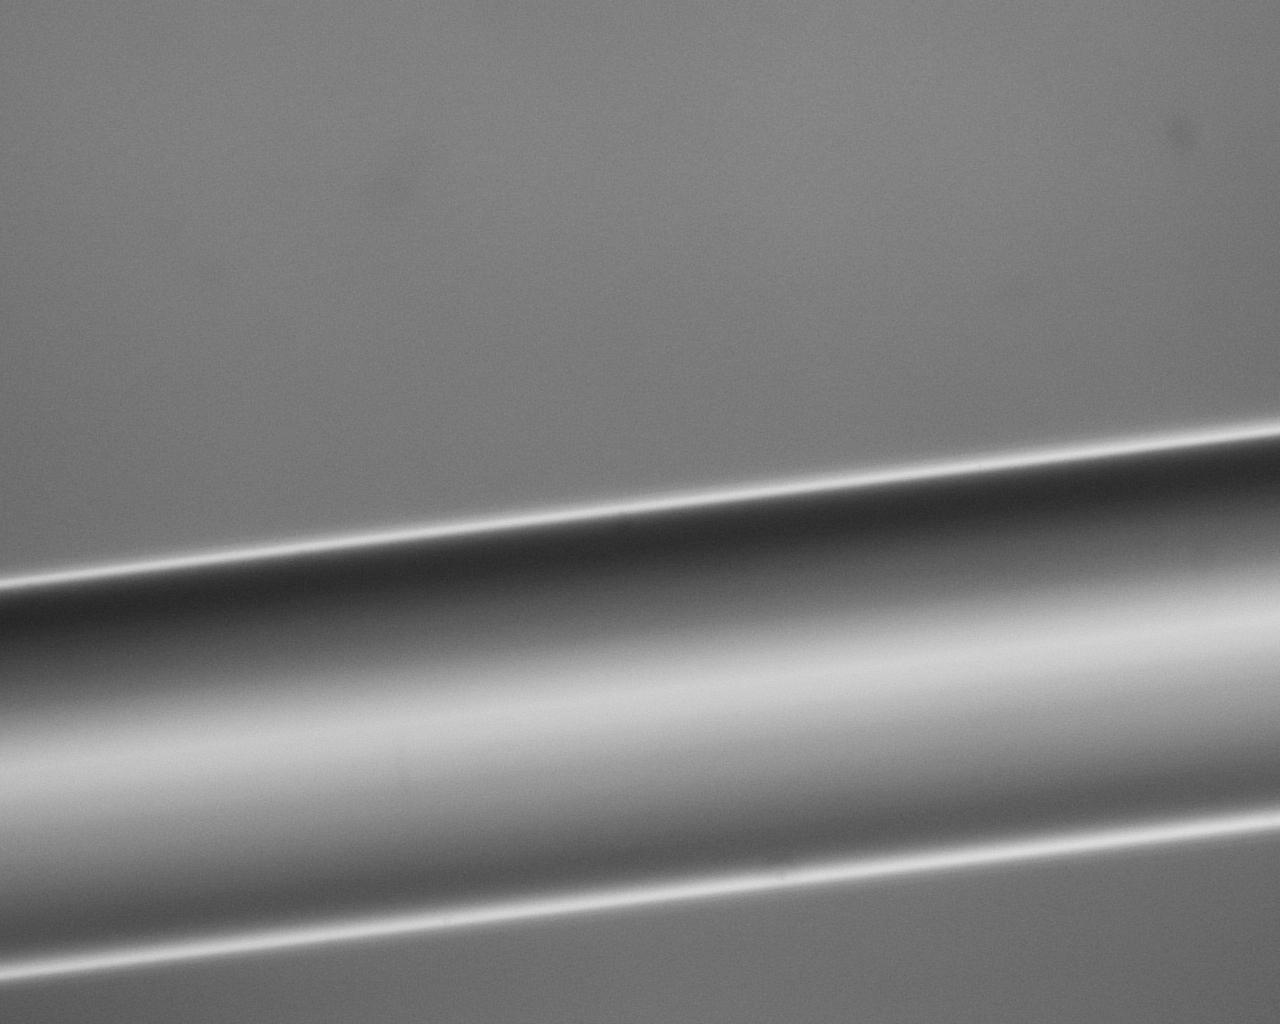fiber: (0, 425, 1279, 981)
